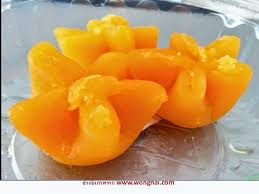tongyip: (12, 39, 167, 174), (129, 33, 251, 129)
